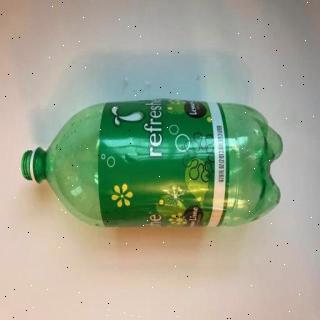Plastic-bottle: (22, 99, 284, 230)
